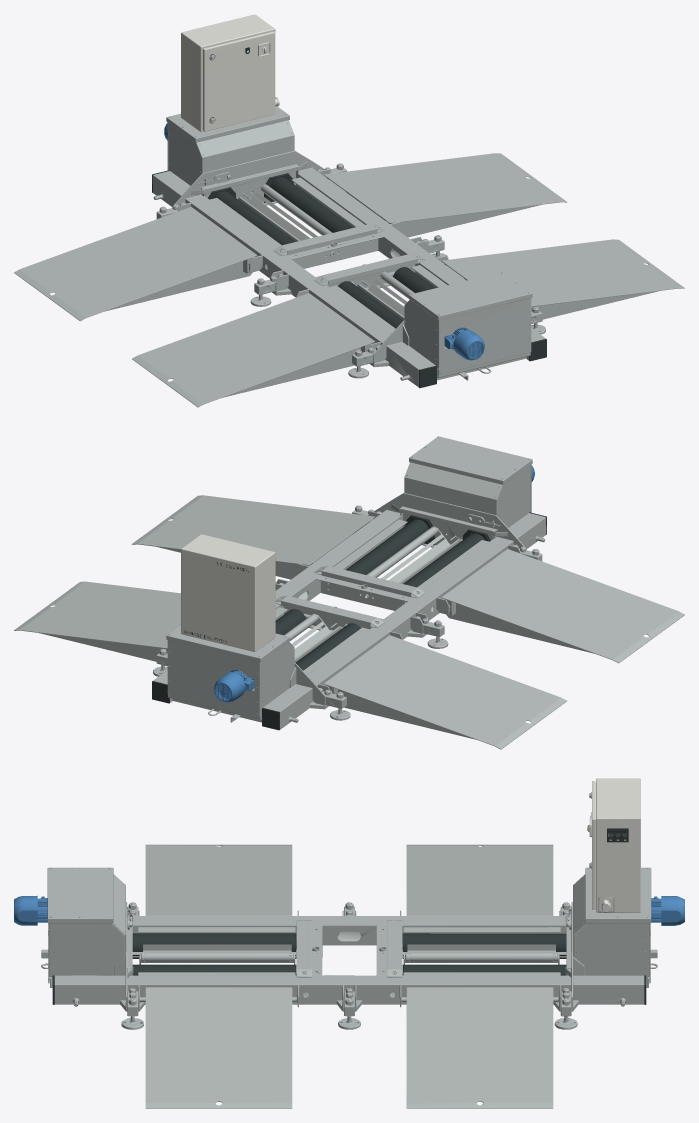
The model's file is testingTool_brake_testing_station_b01.glb.
3 views of the same model, one above another, from view 1: azimuth 30°, elevation 25°; view 2: azimuth 150°, elevation 25°; view 3: azimuth 270°, elevation 25° (orthographic). The views are drawn at different scales.
Bounding box in the file's own units: 4.2 × 1.33 × 4.52.
